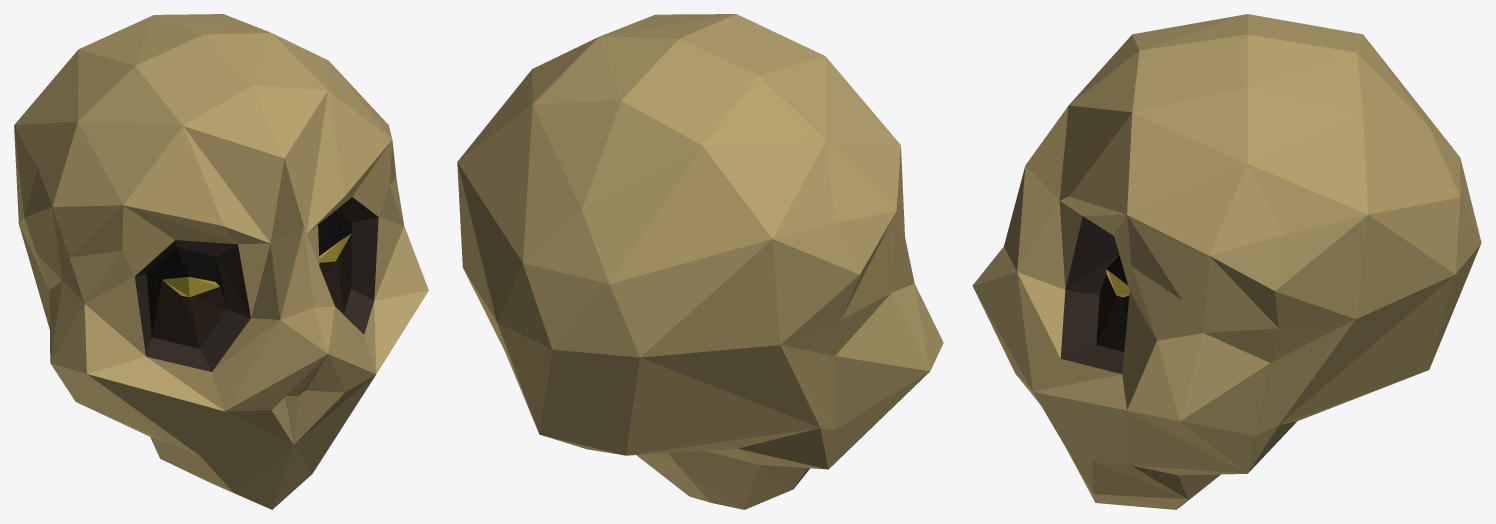
The model's file is skull.FBX.
3 renders of one model, left to right at view 1: azimuth 30°, elevation 25°; view 2: azimuth 150°, elevation 25°; view 3: azimuth 270°, elevation 25°, orthographic. The views are drawn at different scales.
Visible parts, largest first — view 1: skull; view 2: skull; view 3: skull.
Part boxes in pixels (x1,y1,x2,y2): skull: (14,14,428,509); skull: (457,14,943,509); skull: (972,14,1481,509).
Size of the model in its own units: 10.82 by 11.96 by 11.78.
